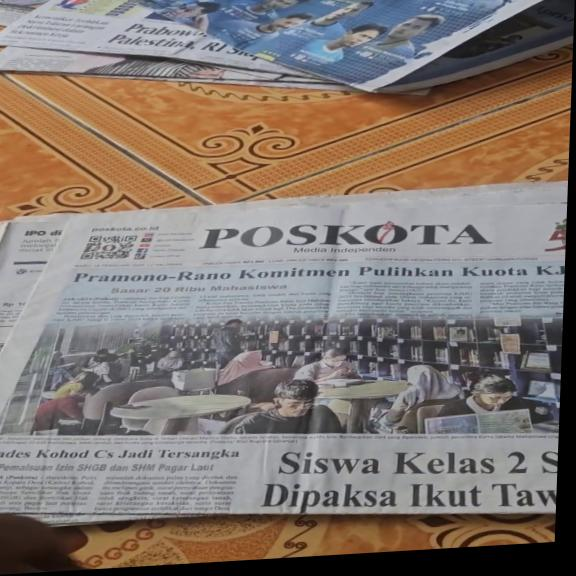Kertas: (0, 196, 557, 546), (0, 0, 334, 107)
